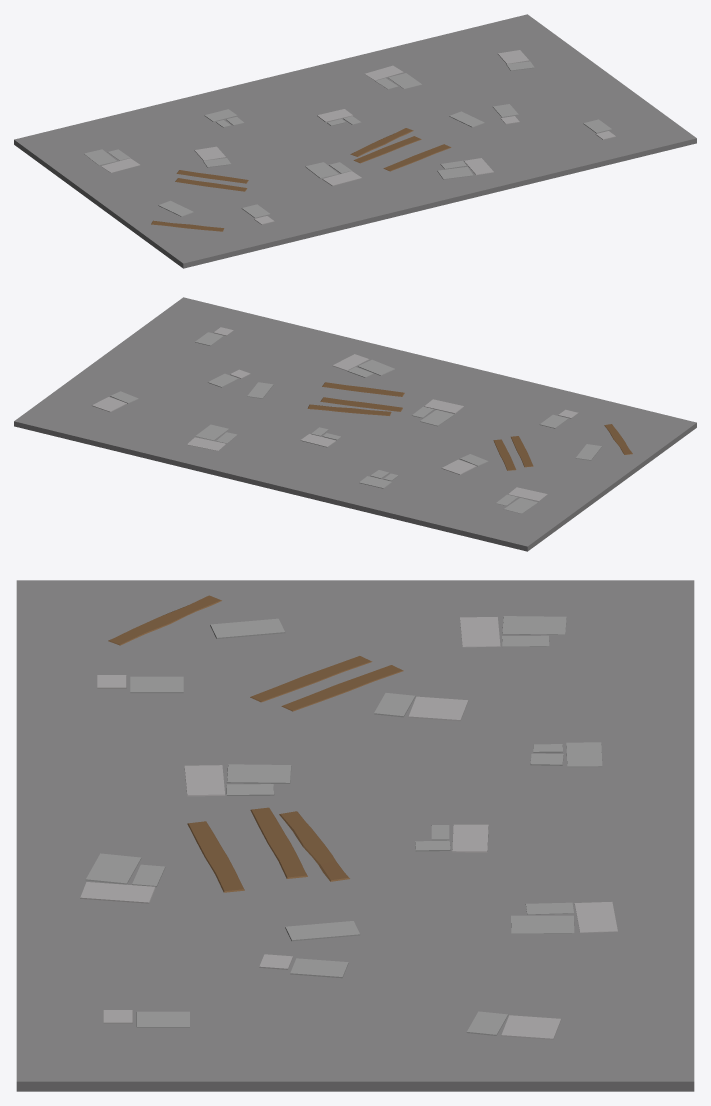
The model's file is Map5_floor.fbx.
3 views of the same model, one above another, from view 1: azimuth 30°, elevation 25°; view 2: azimuth 150°, elevation 25°; view 3: azimuth 270°, elevation 25° (orthographic). The views are drawn at different scales.
Parts seen in each view (by area): view 1: Map 3 floor; view 2: Map 3 floor; view 3: Map 3 floor.
Part boxes in pixels (bbox=[...]): Map 3 floor: bbox=[14, 14, 696, 268]; Map 3 floor: bbox=[14, 297, 696, 551]; Map 3 floor: bbox=[16, 580, 694, 1091].
Size of the model in its own units: 5600 by 58.84 by 3200.
